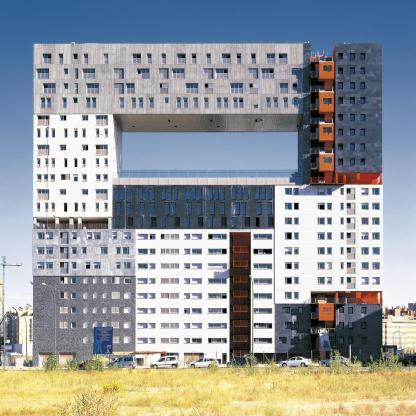Balcony: (113, 170, 303, 178), (311, 297, 382, 304), (311, 177, 382, 184), (311, 55, 334, 62), (311, 117, 334, 124), (311, 148, 334, 154), (311, 86, 334, 92)
Building Outline: (33, 44, 382, 368)
Dont: (113, 114, 303, 170), (319, 344, 399, 368), (42, 350, 106, 372), (40, 282, 55, 354), (264, 354, 312, 367), (93, 327, 113, 355), (226, 350, 258, 367), (107, 356, 137, 370), (150, 355, 180, 369), (187, 358, 218, 369)
Door: (222, 353, 227, 364), (40, 357, 44, 367)
Door Hole: (184, 353, 204, 366), (59, 353, 76, 368), (161, 353, 179, 366), (39, 353, 53, 368)
Facade: (33, 44, 382, 368)
Floor: (33, 351, 382, 368), (33, 170, 382, 186), (33, 288, 382, 304), (33, 334, 382, 350), (33, 186, 382, 201), (33, 259, 382, 274), (33, 81, 382, 95), (33, 96, 382, 110), (33, 244, 382, 258), (33, 67, 382, 80), (33, 203, 382, 216), (33, 319, 382, 332), (33, 217, 382, 229), (33, 231, 382, 243), (33, 275, 382, 287), (33, 306, 382, 318), (33, 112, 113, 127), (33, 141, 113, 156), (304, 125, 383, 139), (304, 111, 383, 124), (304, 141, 383, 154), (304, 156, 383, 168), (33, 158, 113, 169), (33, 128, 113, 139)
Floor Slab: (33, 349, 382, 351), (33, 317, 382, 319), (33, 258, 382, 260), (33, 242, 382, 244), (33, 216, 382, 218), (33, 201, 382, 203), (33, 110, 382, 112), (33, 79, 382, 81), (33, 184, 382, 186), (33, 332, 382, 333), (33, 304, 382, 305), (33, 287, 382, 288), (33, 274, 382, 275), (33, 229, 382, 230), (33, 95, 382, 96), (33, 65, 382, 66), (33, 168, 113, 170), (33, 126, 113, 128), (304, 168, 383, 170), (304, 154, 383, 156), (33, 156, 113, 157), (33, 140, 113, 141), (304, 139, 383, 140), (304, 124, 383, 125)
Pillar: (356, 293, 361, 304), (55, 217, 59, 229), (70, 217, 74, 229), (78, 217, 81, 229), (34, 217, 37, 229), (357, 173, 360, 184), (336, 293, 338, 304), (380, 173, 382, 184), (336, 173, 338, 184), (344, 173, 346, 184)
Top Floor: (33, 43, 382, 65)
Window: (86, 83, 99, 94), (36, 68, 49, 79), (230, 83, 243, 94), (172, 68, 185, 79), (261, 68, 274, 79), (37, 115, 50, 126), (83, 68, 95, 79), (43, 83, 55, 94), (216, 68, 228, 79), (37, 189, 49, 200), (96, 189, 108, 200), (96, 115, 108, 126), (37, 145, 50, 155), (186, 83, 198, 93), (96, 145, 108, 155), (137, 69, 149, 79), (253, 248, 272, 254), (208, 248, 227, 254), (253, 263, 272, 269), (208, 263, 227, 269), (253, 278, 272, 284), (208, 278, 227, 284), (253, 293, 272, 299), (208, 293, 227, 299), (253, 308, 272, 314), (208, 308, 227, 314), (159, 83, 169, 94), (114, 83, 124, 94), (248, 68, 258, 79), (159, 68, 169, 79), (204, 68, 214, 79), (347, 188, 356, 200), (347, 203, 356, 215), (347, 217, 356, 229), (347, 233, 356, 245), (347, 247, 356, 259), (347, 262, 356, 274), (347, 277, 356, 289), (60, 232, 69, 244), (60, 247, 69, 259), (114, 69, 124, 79), (279, 53, 288, 64), (293, 83, 302, 94), (60, 262, 69, 273), (253, 338, 272, 343), (208, 338, 227, 343), (253, 234, 272, 239), (208, 234, 227, 239), (253, 323, 272, 328), (208, 323, 227, 328), (132, 54, 141, 64), (177, 54, 186, 64), (222, 54, 231, 64), (204, 83, 213, 93), (249, 83, 258, 93), (267, 53, 275, 64), (126, 83, 134, 94), (280, 83, 288, 94), (43, 54, 51, 64), (37, 232, 45, 240), (138, 248, 148, 254), (192, 248, 202, 254), (138, 263, 148, 269), (192, 263, 202, 269), (138, 278, 148, 284), (192, 278, 202, 284), (138, 293, 148, 299), (192, 293, 202, 299), (138, 308, 148, 314), (192, 308, 202, 314), (372, 202, 379, 210), (361, 202, 368, 210), (372, 217, 379, 225), (361, 217, 368, 225), (372, 232, 379, 240), (361, 232, 368, 240), (372, 247, 379, 255), (361, 247, 368, 255), (285, 322, 293, 329), (37, 262, 45, 269), (46, 232, 53, 240), (123, 233, 131, 240), (37, 247, 45, 254), (122, 247, 130, 254), (93, 262, 101, 269), (124, 277, 132, 284), (60, 277, 68, 284), (112, 277, 120, 284), (251, 53, 256, 64), (61, 174, 70, 180), (323, 157, 332, 163), (323, 65, 332, 71), (323, 98, 332, 104), (323, 127, 332, 133), (161, 248, 170, 254), (170, 248, 179, 254), (161, 263, 170, 269), (170, 263, 179, 269), (161, 278, 170, 284), (170, 278, 179, 284), (161, 293, 170, 299), (170, 293, 179, 299), (161, 308, 170, 314), (170, 308, 179, 314), (323, 307, 332, 313), (242, 202, 246, 215), (127, 202, 131, 215), (117, 202, 121, 215), (151, 202, 155, 215), (141, 202, 145, 215), (165, 202, 169, 215), (172, 202, 176, 215), (198, 202, 202, 215), (187, 202, 191, 215), (221, 202, 225, 215), (211, 202, 215, 215), (268, 202, 272, 215), (257, 202, 261, 215), (236, 202, 240, 215), (147, 54, 152, 64), (204, 98, 209, 108), (193, 98, 198, 108), (268, 217, 273, 227), (152, 217, 157, 227), (175, 217, 180, 227), (198, 217, 203, 227), (222, 217, 227, 227), (245, 217, 250, 227), (138, 338, 148, 343), (192, 338, 202, 343), (138, 234, 148, 239), (192, 234, 202, 239), (138, 323, 148, 328), (192, 323, 202, 328), (285, 292, 292, 299), (318, 188, 325, 195), (285, 188, 292, 195), (372, 188, 379, 195), (361, 188, 368, 195), (318, 262, 325, 269), (285, 262, 292, 269), (372, 262, 379, 269), (361, 262, 368, 269), (318, 277, 325, 284), (285, 277, 292, 284), (372, 277, 379, 284), (361, 277, 368, 284), (279, 337, 286, 344), (283, 307, 290, 314), (46, 262, 53, 269), (46, 247, 53, 254), (94, 233, 101, 240), (124, 262, 131, 269), (101, 247, 108, 254), (268, 188, 272, 200), (256, 188, 260, 200), (262, 188, 266, 200), (127, 188, 131, 200), (115, 188, 119, 200), (121, 188, 125, 200), (151, 188, 155, 200), (138, 188, 142, 200), (144, 188, 148, 200), (174, 188, 178, 200), (162, 188, 166, 200), (168, 188, 172, 200), (198, 188, 202, 200), (185, 188, 189, 200), (192, 188, 196, 200), (221, 188, 225, 200), (209, 188, 213, 200), (215, 188, 219, 200), (245, 188, 249, 200), (232, 188, 236, 200), (238, 188, 242, 200), (124, 337, 132, 343), (60, 322, 68, 328), (112, 337, 120, 343), (124, 292, 132, 298), (60, 292, 68, 298), (112, 292, 120, 298), (124, 307, 132, 313), (60, 307, 68, 313), (112, 307, 120, 313), (124, 322, 132, 328), (112, 322, 120, 328), (161, 338, 170, 343), (170, 338, 179, 343), (161, 234, 170, 239), (170, 234, 179, 239), (161, 323, 170, 328), (170, 323, 179, 328), (237, 53, 241, 64), (63, 98, 67, 109), (150, 98, 154, 109), (120, 98, 124, 109), (132, 98, 136, 109), (139, 98, 143, 109), (294, 97, 298, 108), (318, 203, 325, 209), (285, 203, 292, 209), (318, 218, 325, 224), (285, 218, 292, 224), (318, 233, 325, 239), (285, 233, 292, 239), (318, 248, 325, 254), (285, 248, 292, 254), (59, 54, 63, 64), (84, 54, 88, 64), (104, 54, 108, 64), (162, 54, 166, 64), (192, 54, 196, 64), (207, 54, 211, 64), (92, 98, 96, 108), (86, 98, 90, 108), (47, 98, 51, 108), (41, 98, 45, 108), (177, 98, 181, 108), (184, 98, 188, 108), (274, 98, 278, 108), (284, 98, 288, 108), (239, 98, 243, 108), (217, 98, 221, 108), (224, 98, 228, 108), (234, 98, 238, 108), (103, 174, 108, 182), (50, 174, 55, 182), (73, 174, 78, 182), (82, 174, 87, 182), (256, 217, 260, 227), (115, 217, 119, 227), (128, 217, 132, 227), (139, 217, 143, 227), (162, 217, 166, 227), (185, 217, 189, 227), (209, 217, 213, 227), (233, 217, 237, 227), (267, 98, 271, 108), (60, 189, 66, 195), (82, 189, 88, 195), (60, 115, 66, 121), (82, 115, 88, 121), (82, 145, 88, 151), (150, 248, 156, 254), (184, 248, 190, 254), (150, 263, 156, 269), (184, 263, 190, 269), (150, 278, 156, 284), (184, 278, 190, 284), (150, 293, 156, 299), (184, 293, 190, 299), (150, 308, 156, 314), (184, 308, 190, 314), (338, 97, 343, 104), (294, 292, 299, 299), (327, 188, 332, 195), (294, 188, 299, 195), (327, 262, 332, 269), (294, 262, 299, 269), (327, 277, 332, 284), (294, 277, 299, 284), (298, 307, 303, 314), (294, 322, 299, 329), (87, 233, 92, 240), (112, 233, 117, 240), (86, 262, 91, 269), (116, 262, 121, 269), (71, 277, 76, 284), (93, 277, 98, 284), (75, 68, 78, 79), (37, 174, 41, 182), (44, 174, 48, 182), (96, 174, 100, 182), (75, 83, 78, 93), (164, 97, 169, 103), (338, 159, 343, 165), (350, 159, 355, 165), (361, 53, 366, 59), (338, 53, 343, 59), (350, 53, 355, 59), (361, 68, 366, 74), (338, 68, 343, 74), (350, 68, 355, 74), (361, 83, 366, 89), (338, 83, 343, 89), (350, 83, 355, 89), (350, 97, 355, 103), (338, 129, 343, 135), (350, 129, 355, 135), (338, 144, 343, 150), (350, 144, 355, 150), (338, 114, 343, 120), (350, 114, 355, 120), (60, 145, 66, 150), (327, 203, 332, 209), (294, 203, 299, 209), (327, 218, 332, 224), (294, 218, 299, 224), (327, 233, 332, 239), (294, 233, 299, 239), (327, 248, 332, 254), (294, 248, 299, 254), (339, 337, 344, 343), (348, 337, 353, 343), (339, 307, 344, 313), (348, 307, 353, 313), (339, 322, 344, 328), (348, 322, 353, 328), (150, 338, 156, 343), (184, 338, 190, 343), (150, 234, 156, 239), (184, 234, 190, 239), (150, 323, 156, 328), (184, 323, 190, 328), (71, 322, 76, 328), (93, 337, 98, 343), (71, 292, 76, 298), (93, 292, 98, 298), (71, 307, 76, 313), (93, 307, 98, 313), (93, 322, 98, 328), (361, 97, 365, 104), (294, 337, 298, 344), (72, 262, 76, 269), (72, 247, 76, 254), (72, 233, 76, 240), (116, 247, 120, 254), (82, 247, 86, 254), (84, 277, 88, 284), (103, 277, 107, 284), (105, 203, 108, 212), (37, 203, 40, 212), (45, 203, 48, 212), (52, 203, 55, 212), (64, 203, 67, 212), (75, 203, 78, 212), (82, 203, 85, 212), (96, 203, 99, 212), (105, 129, 108, 138), (37, 129, 40, 138), (46, 129, 49, 138), (52, 129, 55, 138), (65, 129, 68, 138), (75, 129, 78, 138), (83, 129, 86, 138), (96, 129, 99, 138), (105, 158, 108, 167), (37, 158, 40, 167), (46, 158, 49, 167), (52, 158, 55, 167), (65, 158, 68, 167), (75, 158, 78, 167), (83, 158, 86, 167), (96, 158, 99, 167), (64, 68, 68, 74), (64, 83, 68, 89), (361, 159, 365, 165), (361, 129, 365, 135), (361, 144, 365, 150), (361, 114, 365, 120), (362, 337, 366, 343), (362, 307, 366, 313), (362, 322, 366, 328), (84, 337, 88, 343), (103, 337, 107, 343), (84, 292, 88, 298), (103, 292, 107, 298), (84, 307, 88, 313), (103, 307, 107, 313), (84, 322, 88, 328), (103, 322, 107, 328), (341, 188, 344, 195), (341, 262, 344, 269), (341, 277, 344, 284), (73, 54, 77, 59), (73, 98, 77, 103), (341, 203, 344, 209), (341, 218, 344, 224), (341, 233, 344, 239), (341, 248, 344, 254), (254, 105, 258, 108)
